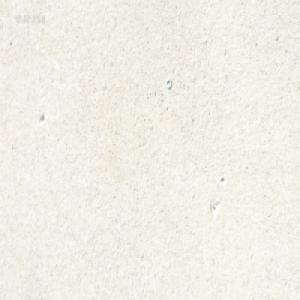Washer: (165, 78, 172, 89)
